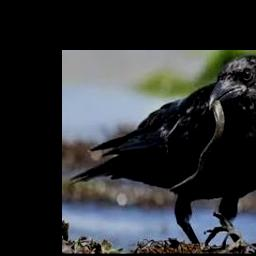Crow: (68, 55, 256, 246)
